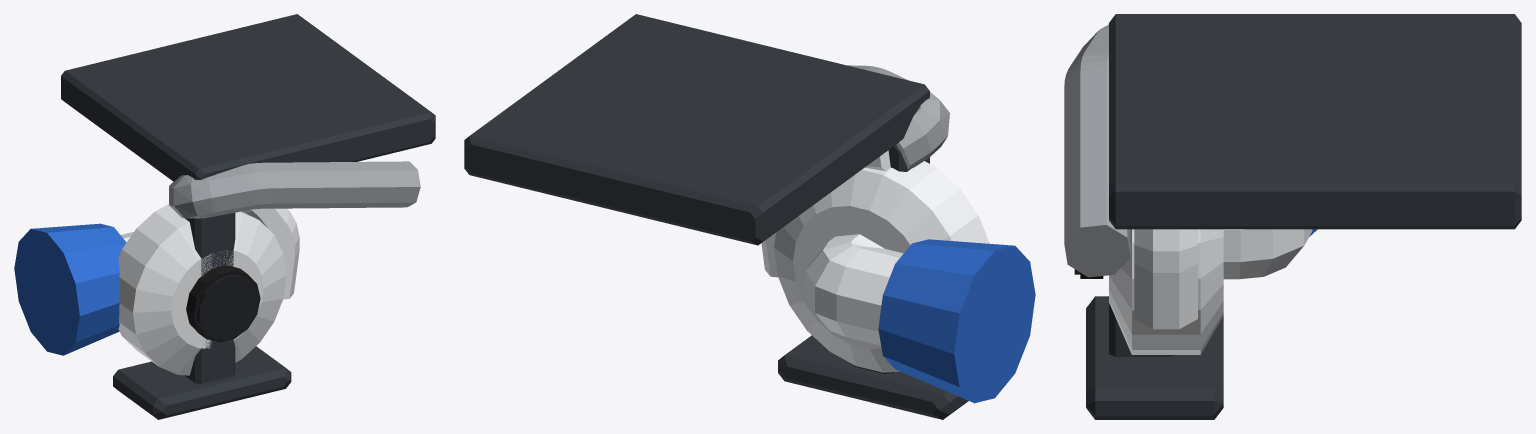
File: kaze_gt.glb
3 views of the same model, side by side, from view 1: azimuth 30°, elevation 25°; view 2: azimuth 150°, elevation 25°; view 3: azimuth 270°, elevation 25° (orthographic). The views are drawn at different scales.
Visible parts, largest first — view 1: model; view 2: model; view 3: model.
Part boxes in pixels (x1,y1,x2,y2): model: (14,14,435,419); model: (464,14,1035,419); model: (1064,14,1521,419).
Size of the model in its own units: 0.51 by 0.335 by 0.3989.
4 materials, 1 textured.
